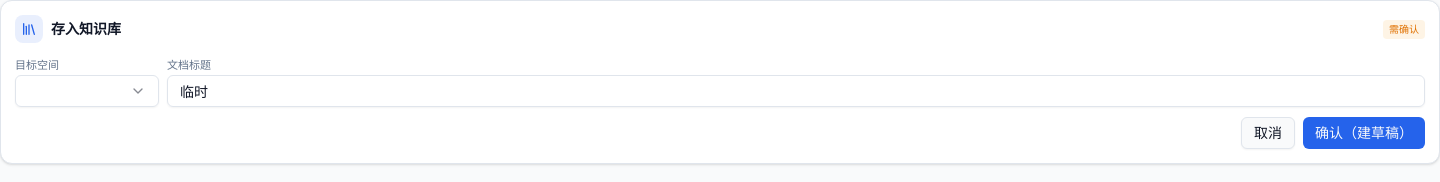
Test: 对话固化确认卡 › 取消 → cancelActionV2 + 已取消
Expected: the button "确认（建草稿）" is enabled, [1303,117,1425,149]
Click the button "取消". click: (1268, 133)
box: [1241,117,1295,149]
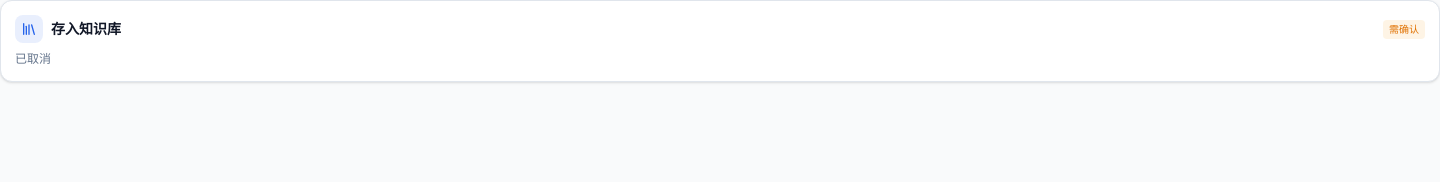
Expected: the text "已取消" is shown, [15,51,51,66]
